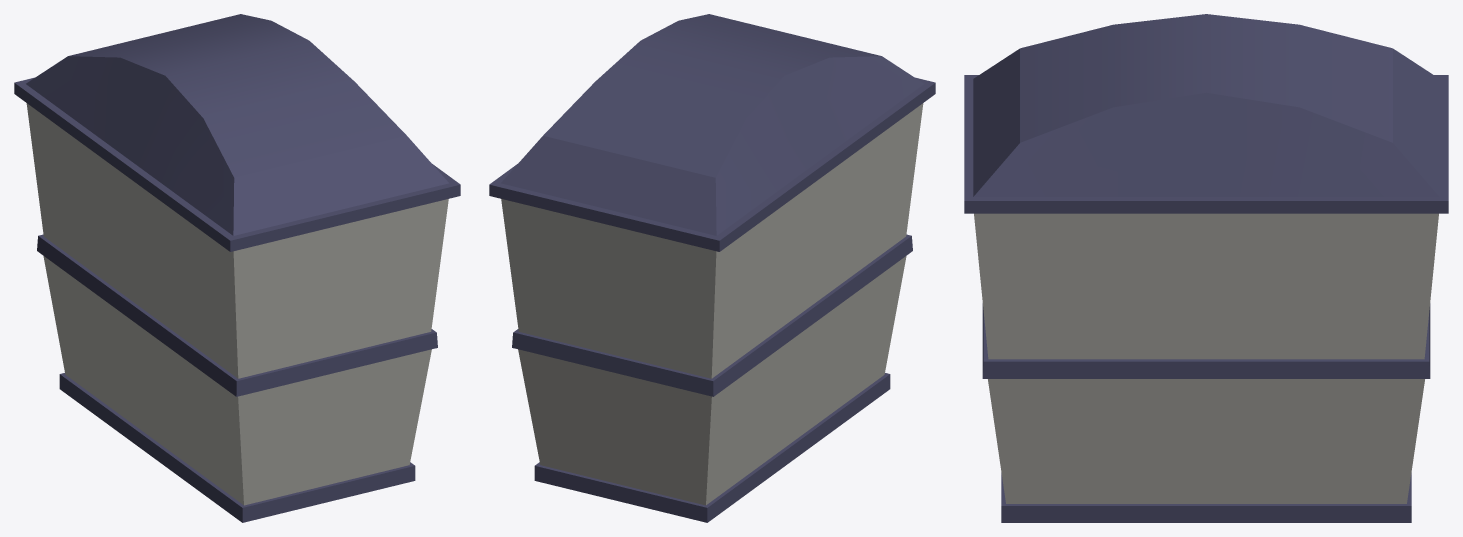
File: paris_building_scaled_med_02.fbx
The picture shows the model from 3 angles, left to right: view 1: azimuth 30°, elevation 25°; view 2: azimuth 150°, elevation 25°; view 3: azimuth 270°, elevation 25°; orthographic projection. The views are drawn at different scales.
Visible parts, largest first — view 1: Cube-convcol; view 2: Cube-convcol; view 3: Cube-convcol.
Part boxes in pixels (box(x1,y1,x2,y2)): Cube-convcol: box(14, 14, 460, 522); Cube-convcol: box(489, 14, 935, 522); Cube-convcol: box(964, 14, 1448, 522).
Size of the model in its own units: 640 by 1000 by 1040.
